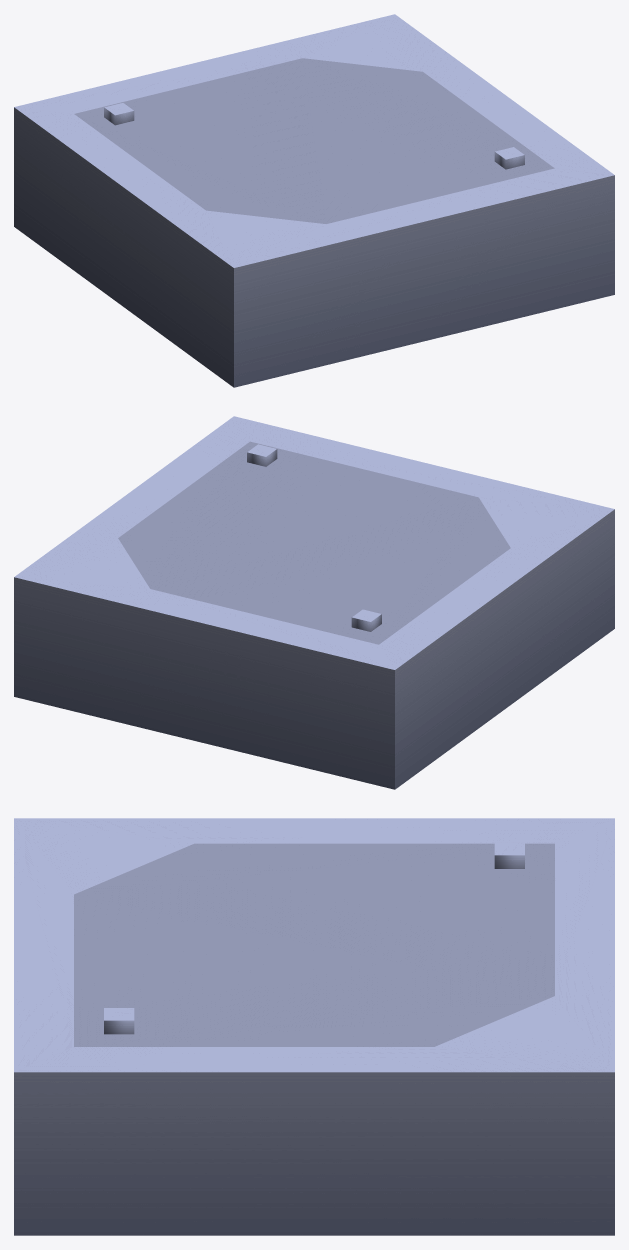
File: floor-detail.glb
3 views of the same model, one above another, from view 1: azimuth 30°, elevation 25°; view 2: azimuth 150°, elevation 25°; view 3: azimuth 270°, elevation 25° (orthographic). The views are drawn at different scales.
Visible parts, largest first — view 1: floor-detail; view 2: floor-detail; view 3: floor-detail.
Boxes of the visible parts, bbox=[...] form: floor-detail: bbox=[14, 14, 614, 387]; floor-detail: bbox=[14, 416, 614, 789]; floor-detail: bbox=[14, 818, 614, 1235].
Bounding box in the file's own units: 1 × 0.325 × 1.
Materials: 1 (1 with a texture image).
